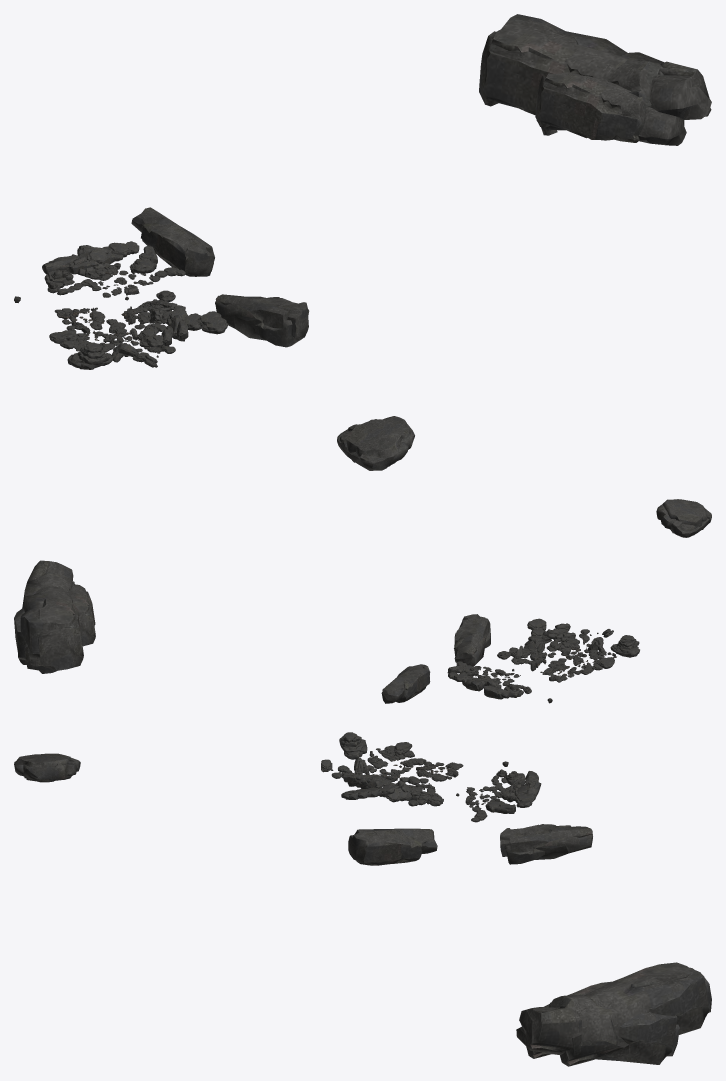
The model's file is scifi-rts-rocks.glb.
The picture shows the model from 3 angles, top to bottom: view 1: azimuth 30°, elevation 25°; view 2: azimuth 150°, elevation 25°; view 3: azimuth 270°, elevation 25°; orthographic projection. The views are drawn at different scales.
Visible parts, largest first — view 1: SM_Cliff_925, SM_Cliff_927, SM_Cliff_926, SM_Cliff_350, SM_Cliff_247, SM_Cliff_271; view 2: SM_Cliff_925, SM_Cliff_926, SM_Cliff_271, SM_Cliff_350, SM_Cliff_247, SM_Cliff_927; view 3: SM_Cliff_926, SM_Cliff_925, SM_Cliff_247, SM_Cliff_350, SM_Cliff_271.
Boxes of the visible parts, <box> form: SM_Cliff_925: <box>479,14,630,115</box>; SM_Cliff_927: <box>535,73,686,145</box>; SM_Cliff_926: <box>536,52,711,135</box>; SM_Cliff_350: <box>215,294,309,347</box>; SM_Cliff_247: <box>131,207,214,276</box>; SM_Cliff_271: <box>337,416,414,470</box>; SM_Cliff_925: <box>20,585,83,670</box>; SM_Cliff_926: <box>14,560,74,673</box>; SM_Cliff_271: <box>656,499,711,537</box>; SM_Cliff_350: <box>454,614,490,666</box>; SM_Cliff_247: <box>381,664,430,703</box>; SM_Cliff_927: <box>69,584,95,646</box>; SM_Cliff_926: <box>519,995,679,1064</box>; SM_Cliff_925: <box>560,962,711,1066</box>; SM_Cliff_247: <box>500,824,592,864</box>; SM_Cliff_350: <box>348,828,437,865</box>; SM_Cliff_271: <box>14,753,80,782</box>.
Size of what is drawn, in the model's own units: 2011 by 261 by 1951.
5 materials, 5 textured.
